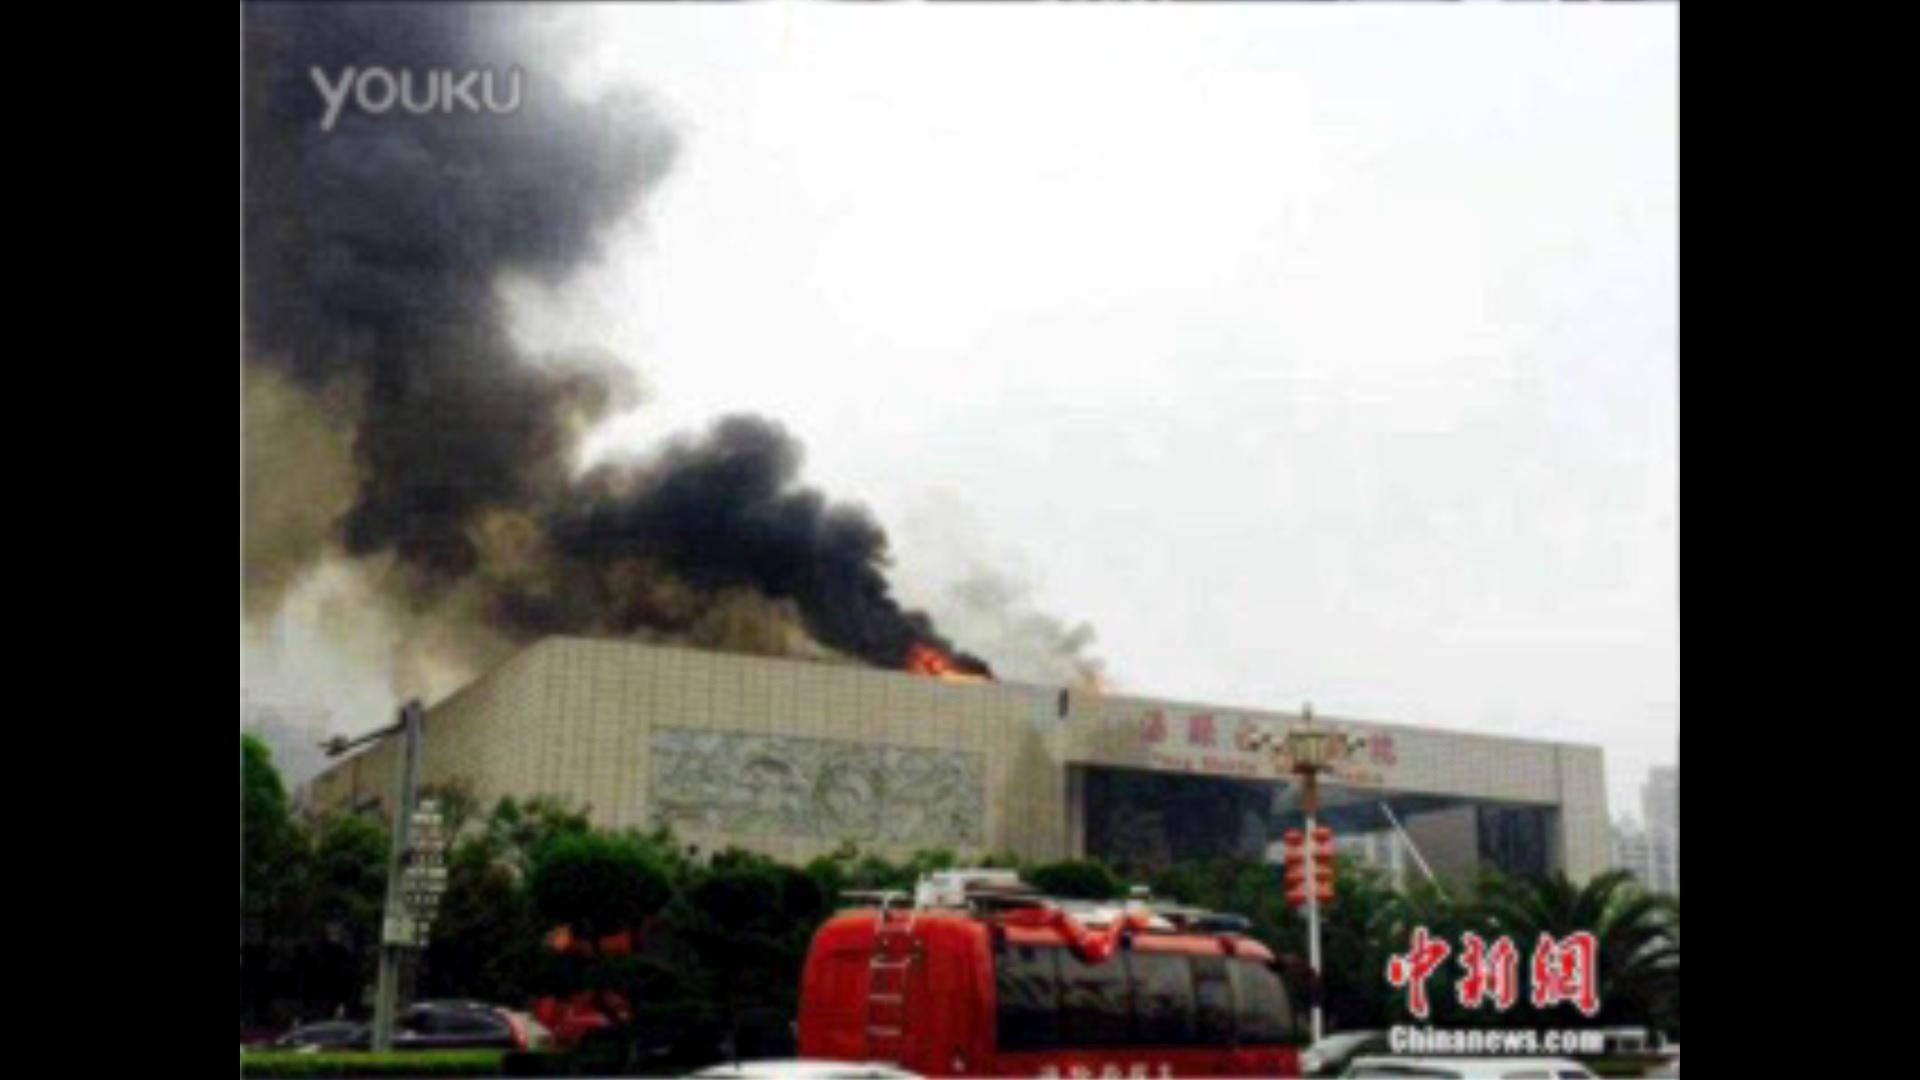fire: (911, 641, 976, 684)
